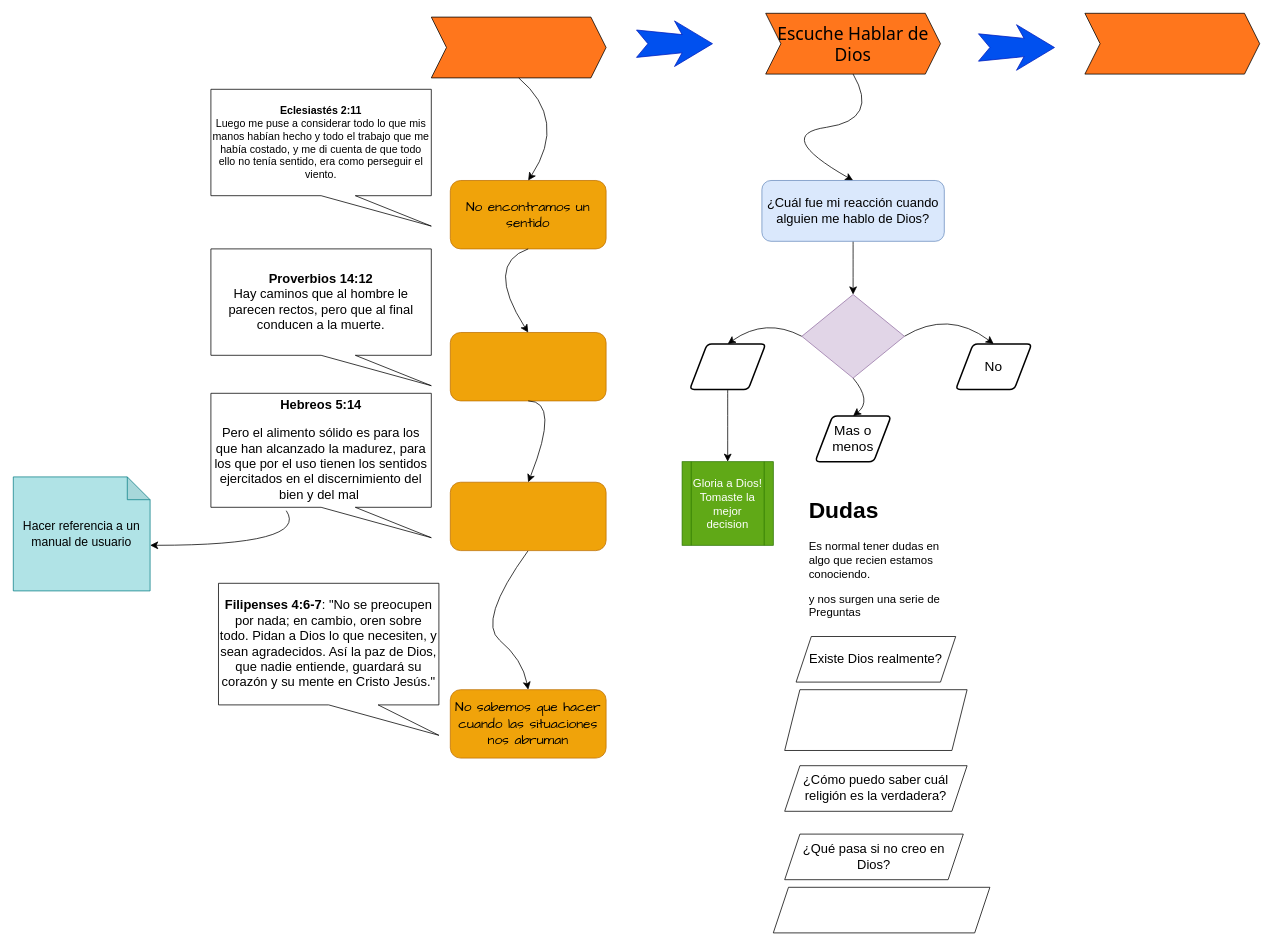
The diagram is 1273 pixels wide and 946 high, and some of its shapes have lost their labels. The centre of each missing label's shape, as x and y in pixels:
Creimos: the point at 852,336
Dios me recibe: the point at 1172,43
Nos cuesta discernir entre el bien y el mal: the point at 528,516
Nuestra Condicion: the point at 518,47
Si: the point at 727,366
Si Dios existe, ¿por qué permite el sufrimiento en el mundo?: the point at 875,719
Tomamos decisiones que nos pueden hacer Daño: the point at 528,366
¿Cómo puedo tener una relación personal con Dios?: the point at 881,910
